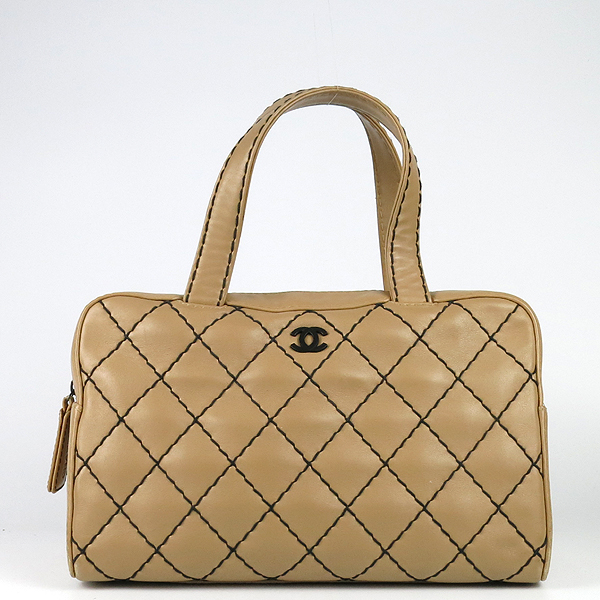channel: (50, 69, 554, 594), (268, 310, 357, 362)
